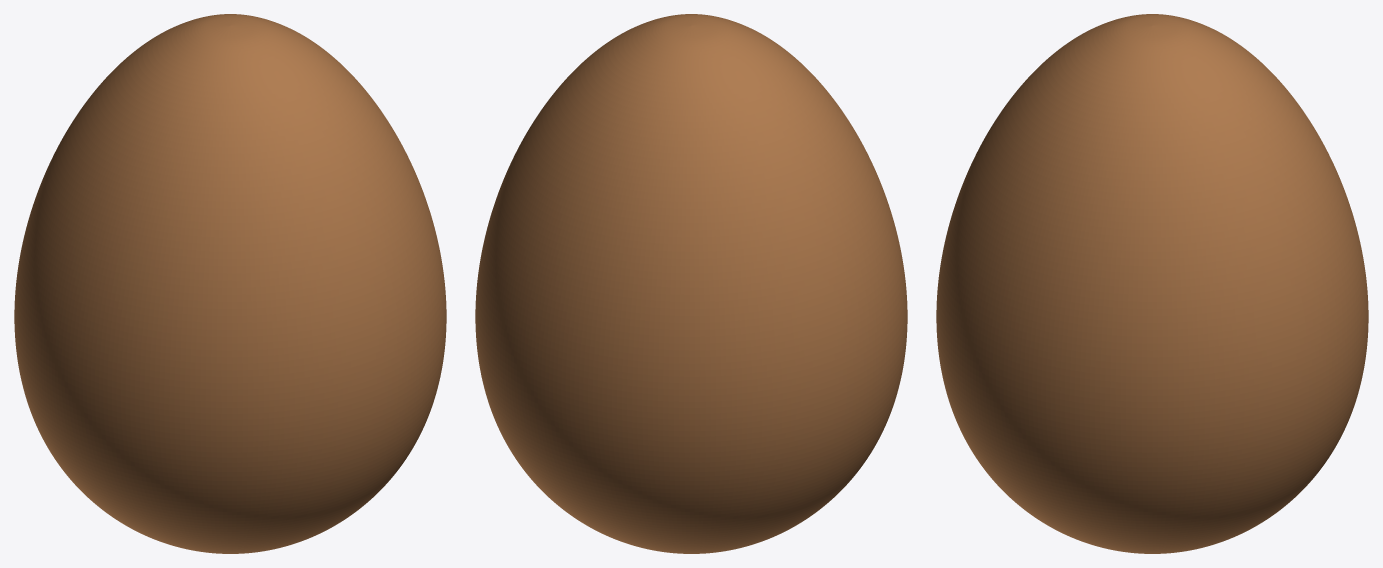
File: egg.fbx
The picture shows the model from 3 angles, left to right: view 1: azimuth 30°, elevation 25°; view 2: azimuth 150°, elevation 25°; view 3: azimuth 270°, elevation 25°; orthographic projection.
Parts seen in each view (by area): view 1: egg.004; view 2: egg.004; view 3: egg.004.
Boxes of the visible parts, left/top/right/bottom form: egg.004: left=14, top=14, right=446, bottom=553; egg.004: left=475, top=14, right=907, bottom=553; egg.004: left=936, top=14, right=1368, bottom=553.
Size of the model in its own units: 187 by 244 by 187.
